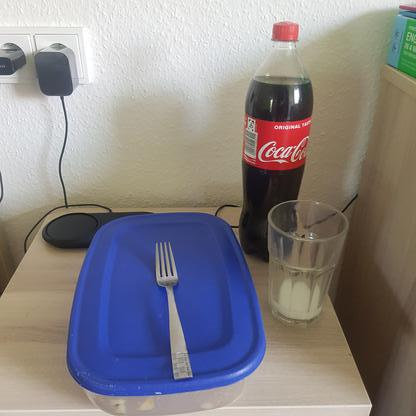coca-cola: (240, 19, 315, 260)
